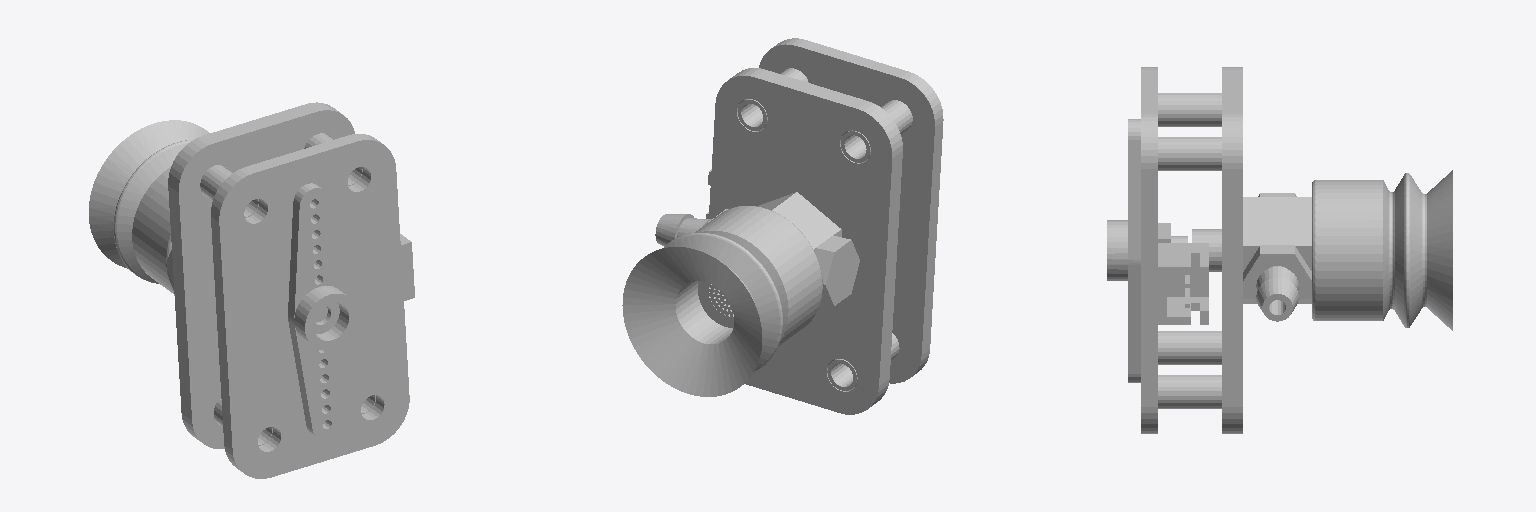
The model's file is hand.obj.
The picture shows the model from 3 angles: view 1: azimuth 30°, elevation 25°; view 2: azimuth 150°, elevation 25°; view 3: azimuth 270°, elevation 25°; orthographic projection.
Visible parts, largest first — view 1: hand; view 2: hand; view 3: hand.
Boxes of the visible parts, x1,y1,x2,y2 form: hand: [89, 102, 414, 478]; hand: [622, 38, 943, 414]; hand: [1107, 67, 1452, 433].
Size of the model in its own units: 2.87 by 4.08 by 4.06.